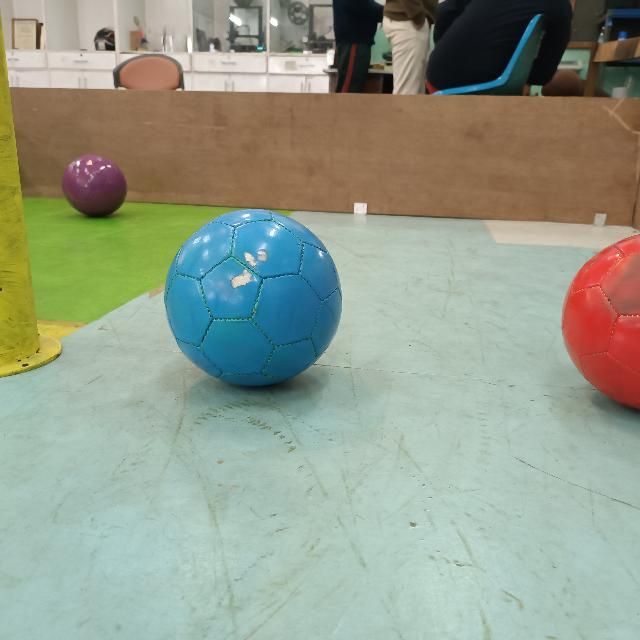B: (162, 206, 344, 388)
P: (62, 152, 128, 218)
R: (560, 231, 640, 413)
